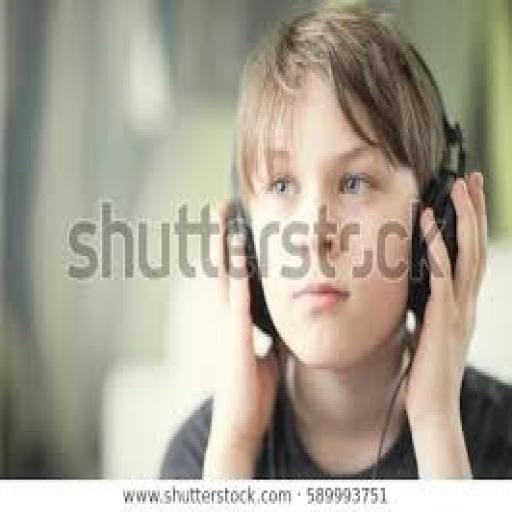listening_to_music: (156, 5, 510, 480)
